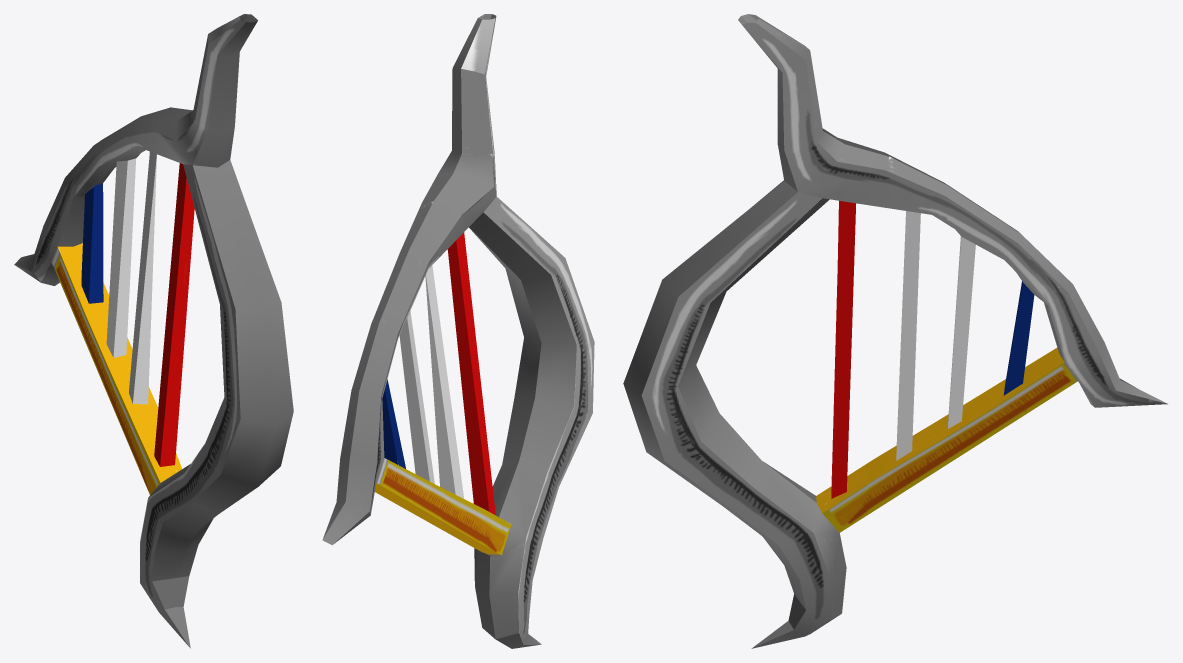
File: Arpa1_000005.obj
3 renders of one model, left to right at view 1: azimuth 30°, elevation 25°; view 2: azimuth 150°, elevation 25°; view 3: azimuth 270°, elevation 25°, orthographic. The views are drawn at different scales.
Parts seen in each view (by area): view 1: a1_pCube7.001; view 2: a1_pCube7.001; view 3: a1_pCube7.001.
Part boxes in pixels (<box>): a1_pCube7.001: <box>14,14,293,648</box>; a1_pCube7.001: <box>322,14,594,648</box>; a1_pCube7.001: <box>623,14,1167,648</box>.
Bounding box in the file's own units: 1.36 × 10.16 × 7.6.
